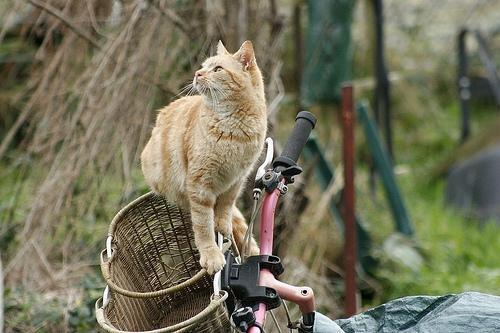bicycle: (224, 112, 318, 327)
